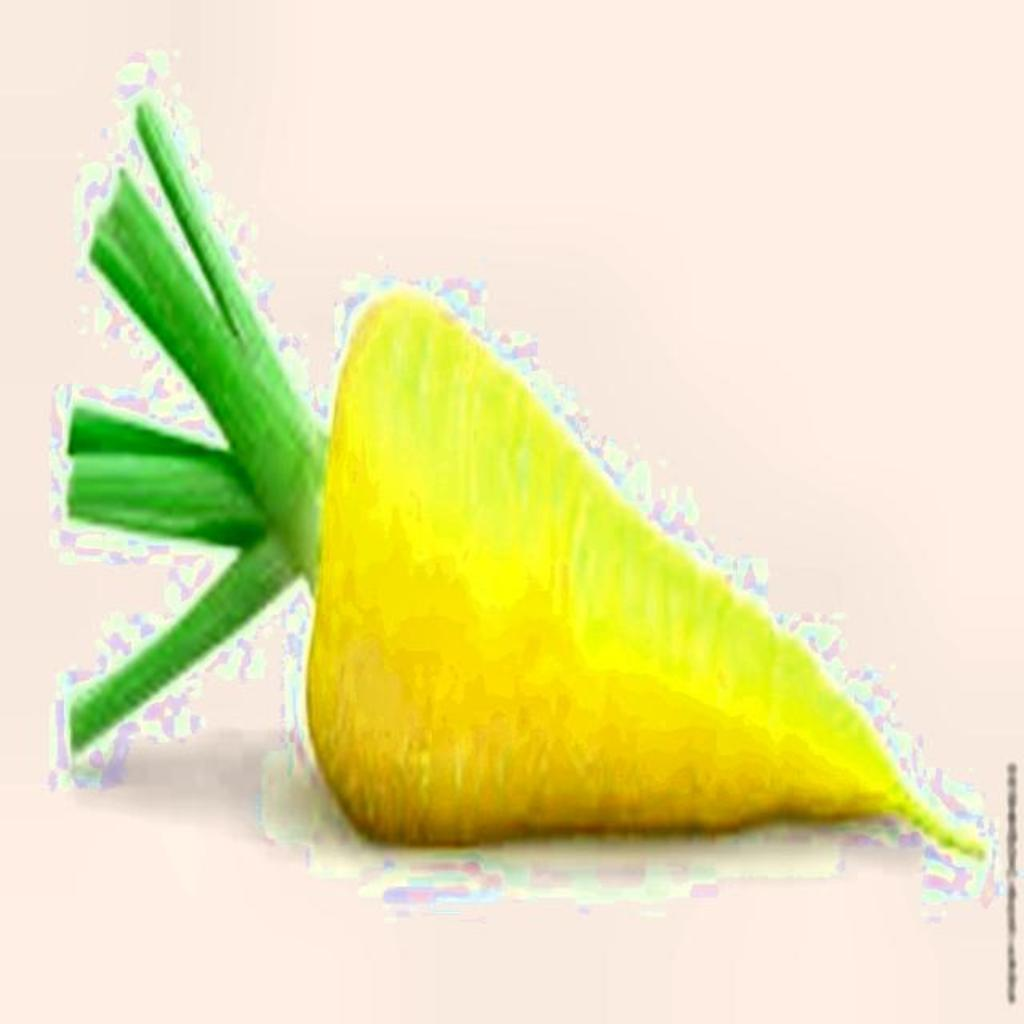carrot: (68, 102, 980, 853)
